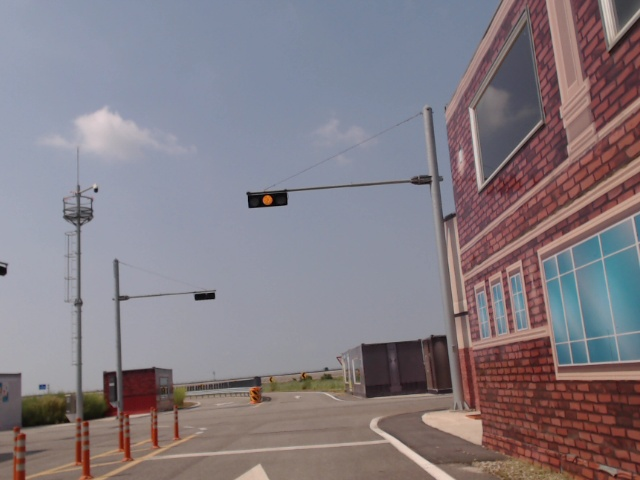orange_3: (248, 192, 290, 207)
